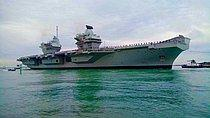MIL_Ship: (17, 25, 192, 70)
